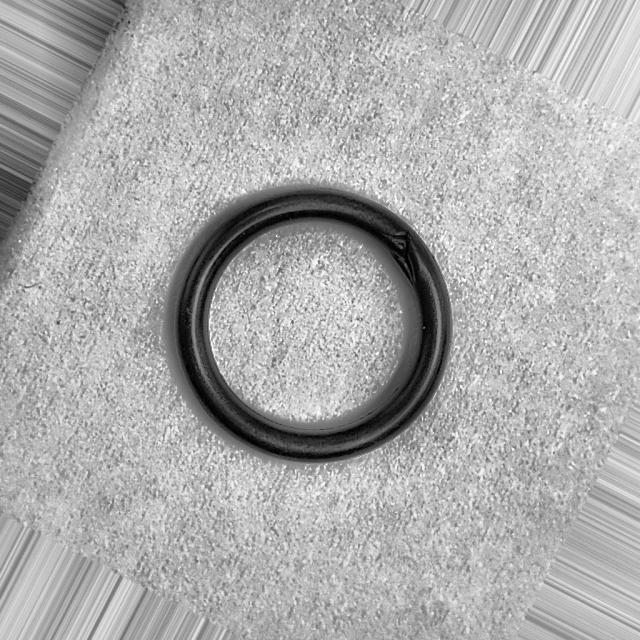切割缺陷: (379, 230, 418, 288)
